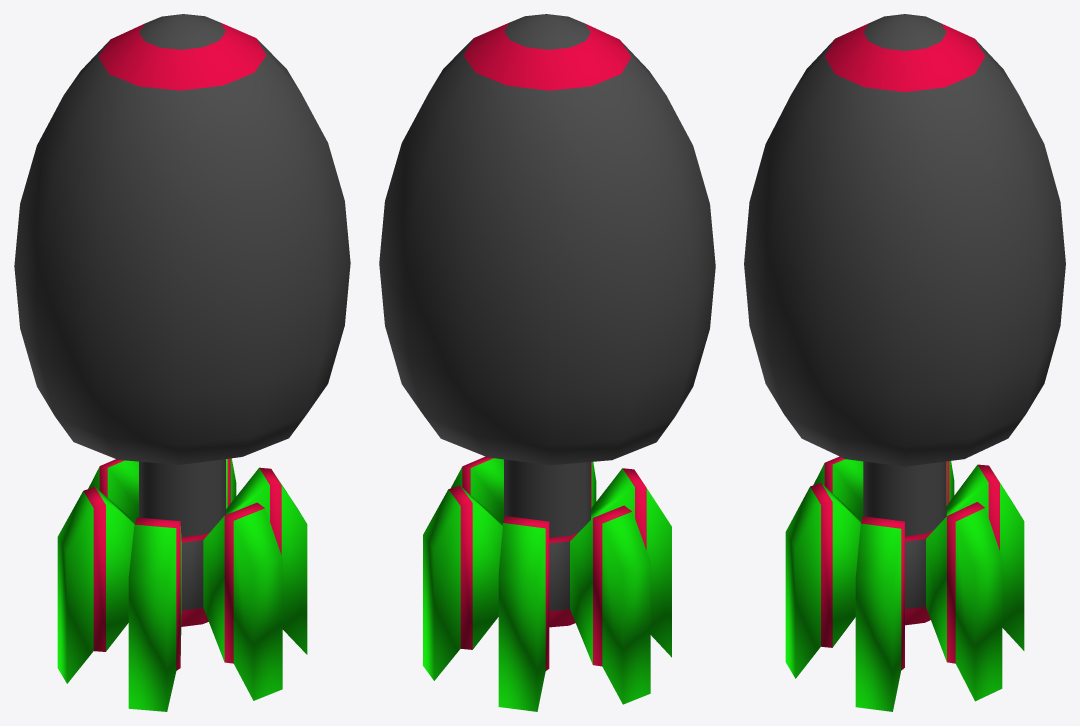
File: WarHead.fbx
3 renders of one model, left to right at view 1: azimuth 30°, elevation 25°; view 2: azimuth 150°, elevation 25°; view 3: azimuth 270°, elevation 25°, orthographic.
Parts seen in each view (by area): view 1: Sphere; view 2: Sphere; view 3: Sphere.
Part boxes in pixels (x1=…): Sphere: x1=14, y1=14, x2=350, y2=711; Sphere: x1=379, y1=14, x2=715, y2=711; Sphere: x1=744, y1=14, x2=1065, y2=711.
Size of the model in its own units: 195 by 408 by 185.
